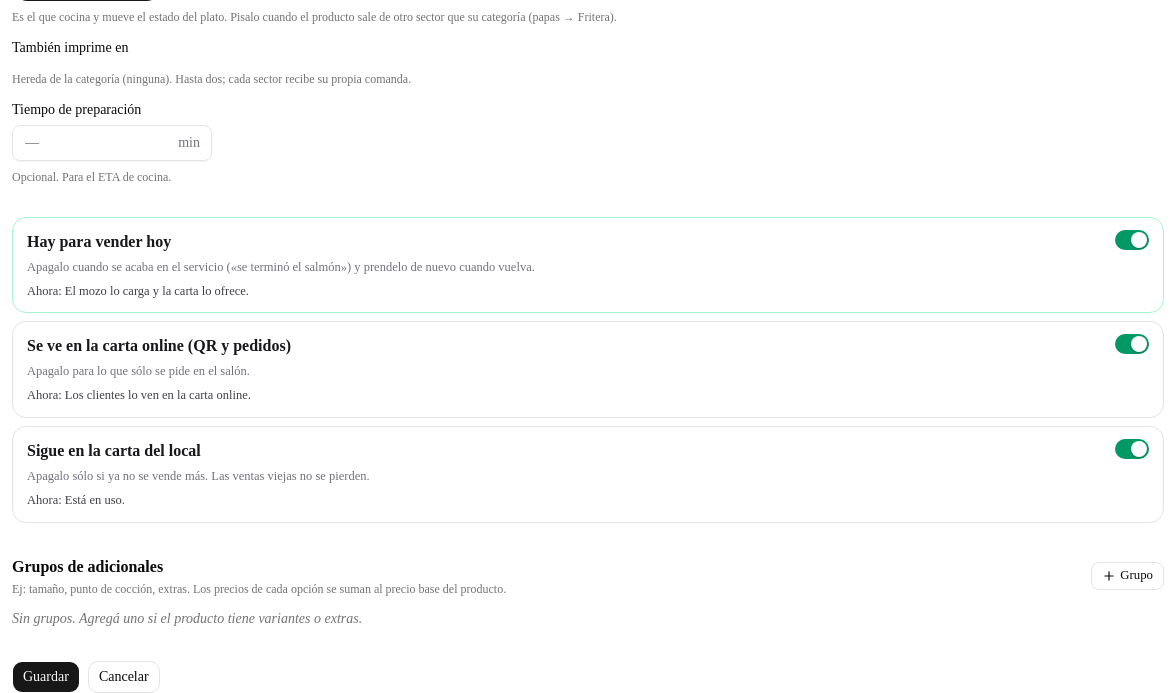
ProductForm · visibilidad (#365) › la línea cambia al tocar el toggle, antes de guardar
(page scrolled)
Click the switch named "se ve en la carta online": [1132, 344] box x1=1115 y1=334 x2=1149 y2=354
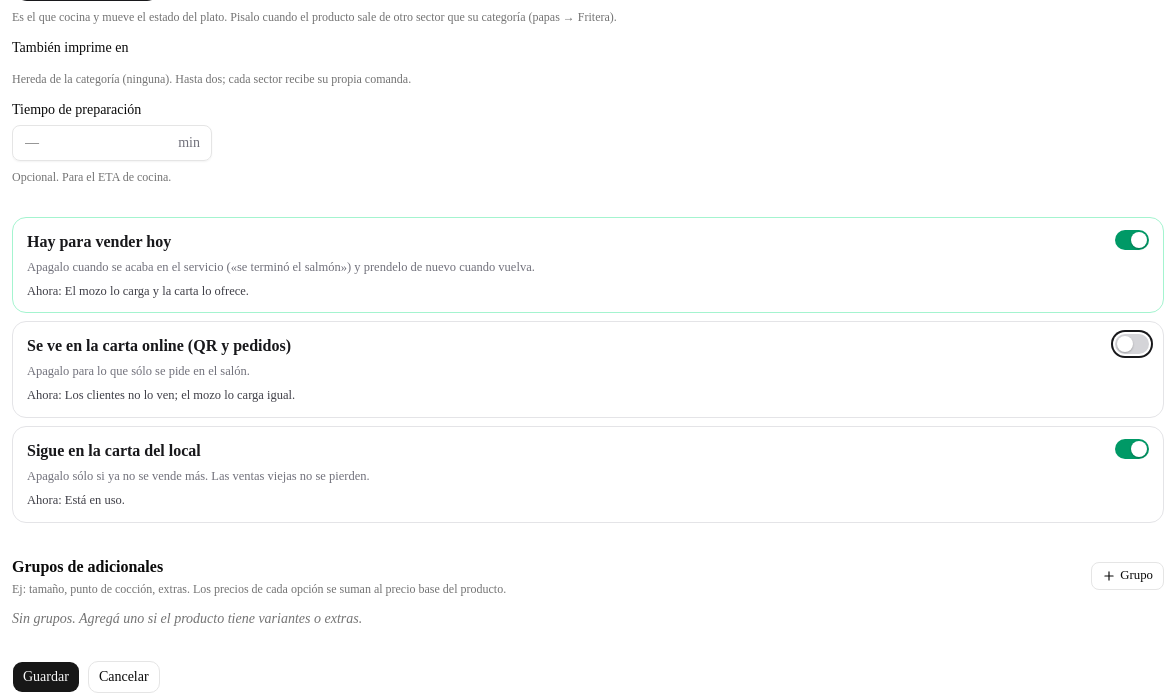
Result: the text "Ahora: Los clientes no lo ven; el mozo lo carga igual." is shown at x1=27 y1=388 x2=295 y2=402
